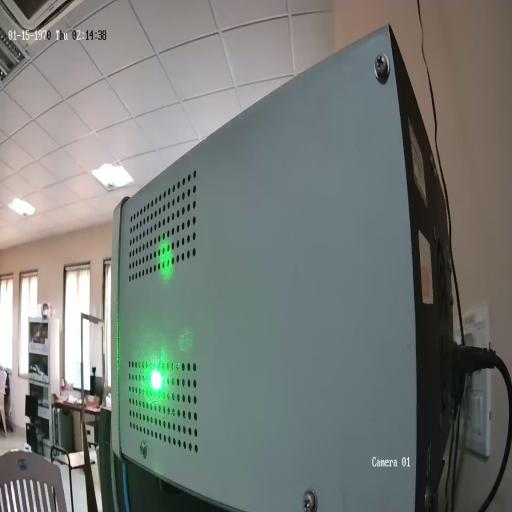laser: (145, 362, 164, 396)
